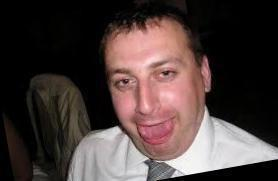Drunk: (107, 32, 200, 151)
